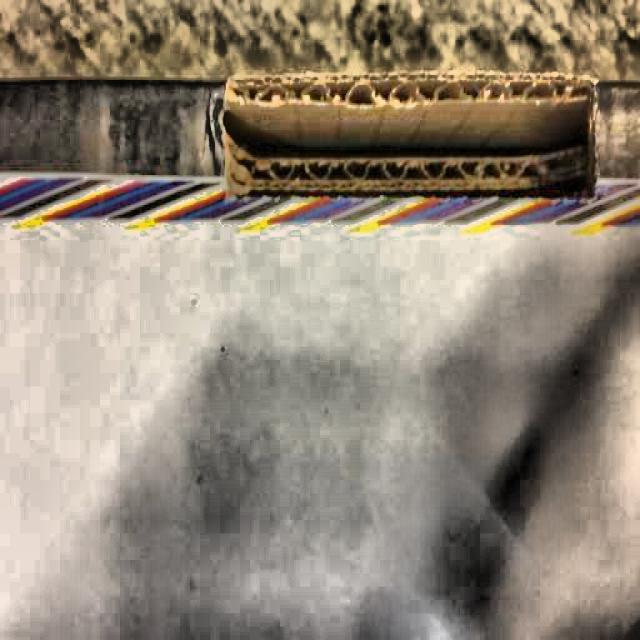cardboard: (1, 63, 640, 372)
